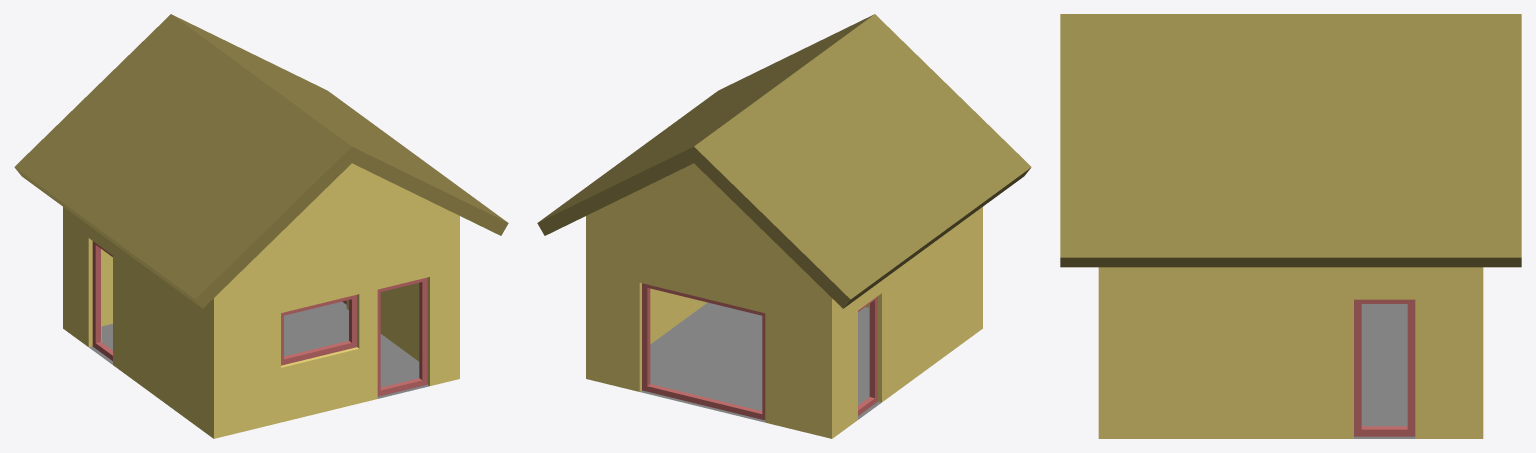
Rendered from result.glb.
The picture shows the model from 3 angles, left to right: view 1: azimuth 30°, elevation 25°; view 2: azimuth 150°, elevation 25°; view 3: azimuth 270°, elevation 25°; orthographic projection. The views are drawn at different scales.
Visible parts, largest first — view 1: 7f465388-94f0-4e4a-a18d-74a58c571b54__undefined (×2), c6c07097-85fe-4bf8-a8be-02d45f8acf99__undefined, 4b55e240-84f9-459b-8d30-d6b977b3659a__Plane_6, f3223eea-3be5-49ac-8573-ebefba6cb1aa__Box, e6e9f86d-085f-424c-b428-8be171de2ea2__Box_3, 8941b9f9-5b72-4e03-9efa-d81318a509bc__Box_12; view 2: 7f465388-94f0-4e4a-a18d-74a58c571b54__undefined (×2), c6c07097-85fe-4bf8-a8be-02d45f8acf99__undefined, 4b55e240-84f9-459b-8d30-d6b977b3659a__Plane_6, 9375e250-e323-441e-ad73-165127ec192d__Box_9, 8941b9f9-5b72-4e03-9efa-d81318a509bc__Box_12; view 3: 7f465388-94f0-4e4a-a18d-74a58c571b54__undefined, c6c07097-85fe-4bf8-a8be-02d45f8acf99__undefined, 4b55e240-84f9-459b-8d30-d6b977b3659a__Plane_6, 040c20a6-84fe-4092-afba-bc58e08f6f51__Box_15.
Boxes of the visible parts, x1,y1,x2,y2 form: 7f465388-94f0-4e4a-a18d-74a58c571b54__undefined (×2): (14, 14, 508, 308); c6c07097-85fe-4bf8-a8be-02d45f8acf99__undefined: (63, 163, 459, 438); 4b55e240-84f9-459b-8d30-d6b977b3659a__Plane_6: (89, 301, 429, 398); f3223eea-3be5-49ac-8573-ebefba6cb1aa__Box: (377, 277, 427, 396); e6e9f86d-085f-424c-b428-8be171de2ea2__Box_3: (281, 294, 356, 365); 8941b9f9-5b72-4e03-9efa-d81318a509bc__Box_12: (92, 241, 112, 360); 7f465388-94f0-4e4a-a18d-74a58c571b54__undefined (×2): (537, 14, 1031, 308); c6c07097-85fe-4bf8-a8be-02d45f8acf99__undefined: (586, 163, 982, 438); 4b55e240-84f9-459b-8d30-d6b977b3659a__Plane_6: (640, 302, 881, 422); 9375e250-e323-441e-ad73-165127ec192d__Box_9: (642, 283, 765, 420); 8941b9f9-5b72-4e03-9efa-d81318a509bc__Box_12: (858, 296, 877, 415); 7f465388-94f0-4e4a-a18d-74a58c571b54__undefined: (1060, 14, 1521, 267); c6c07097-85fe-4bf8-a8be-02d45f8acf99__undefined: (1098, 267, 1483, 438); 4b55e240-84f9-459b-8d30-d6b977b3659a__Plane_6: (1354, 304, 1415, 438); 040c20a6-84fe-4092-afba-bc58e08f6f51__Box_15: (1354, 299, 1415, 436).
Size of the model in its own units: 600 by 500 by 600.
